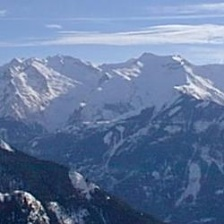neutral: (2, 15, 224, 208)
